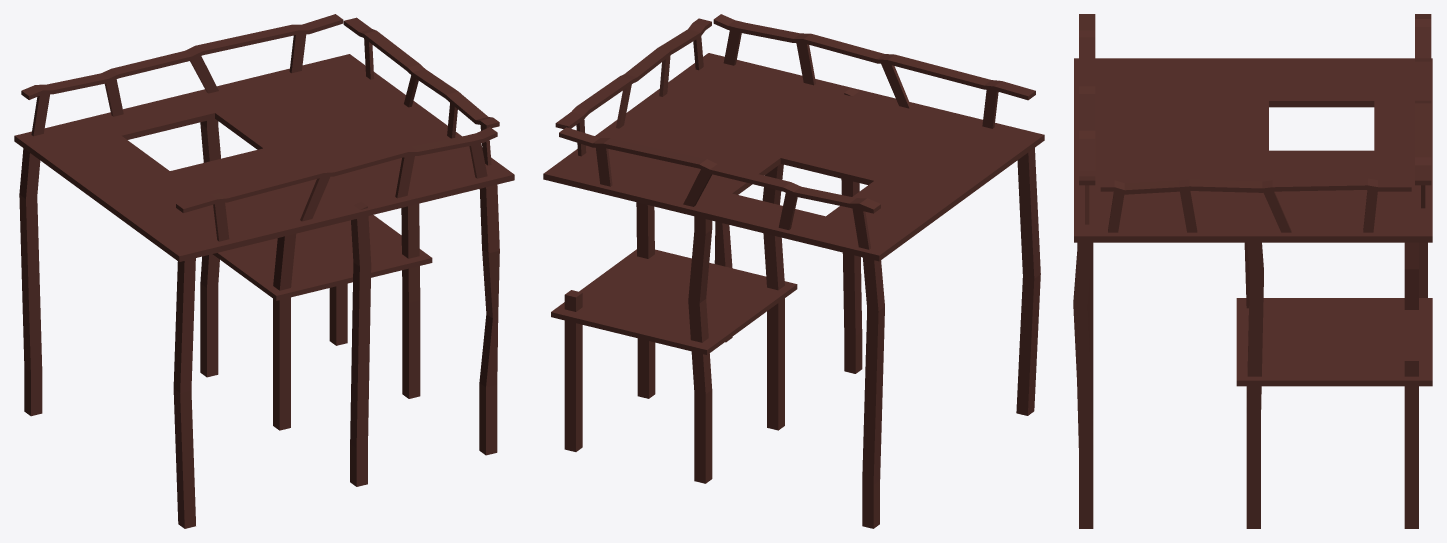
The model's file is platform2.fbx.
3 views of the same model, side by side, from view 1: azimuth 30°, elevation 25°; view 2: azimuth 150°, elevation 25°; view 3: azimuth 270°, elevation 25° (orthographic). The views are drawn at different scales.
Visible parts, largest first — view 1: Platform2; view 2: Platform2; view 3: Platform2.
Part boxes in pixels (x1=…): Platform2: x1=14, y1=14, x2=514, y2=528; Platform2: x1=543, y1=14, x2=1044, y2=528; Platform2: x1=1073, y1=14, x2=1432, y2=528.
Size of the model in its own units: 430 by 396 by 367.
